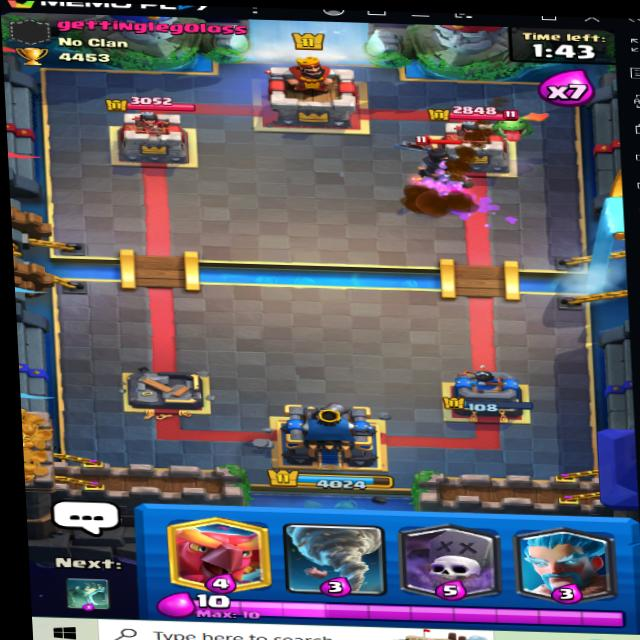baby-dragon: (485, 107, 549, 148)
dark-prince: (404, 132, 476, 193)
